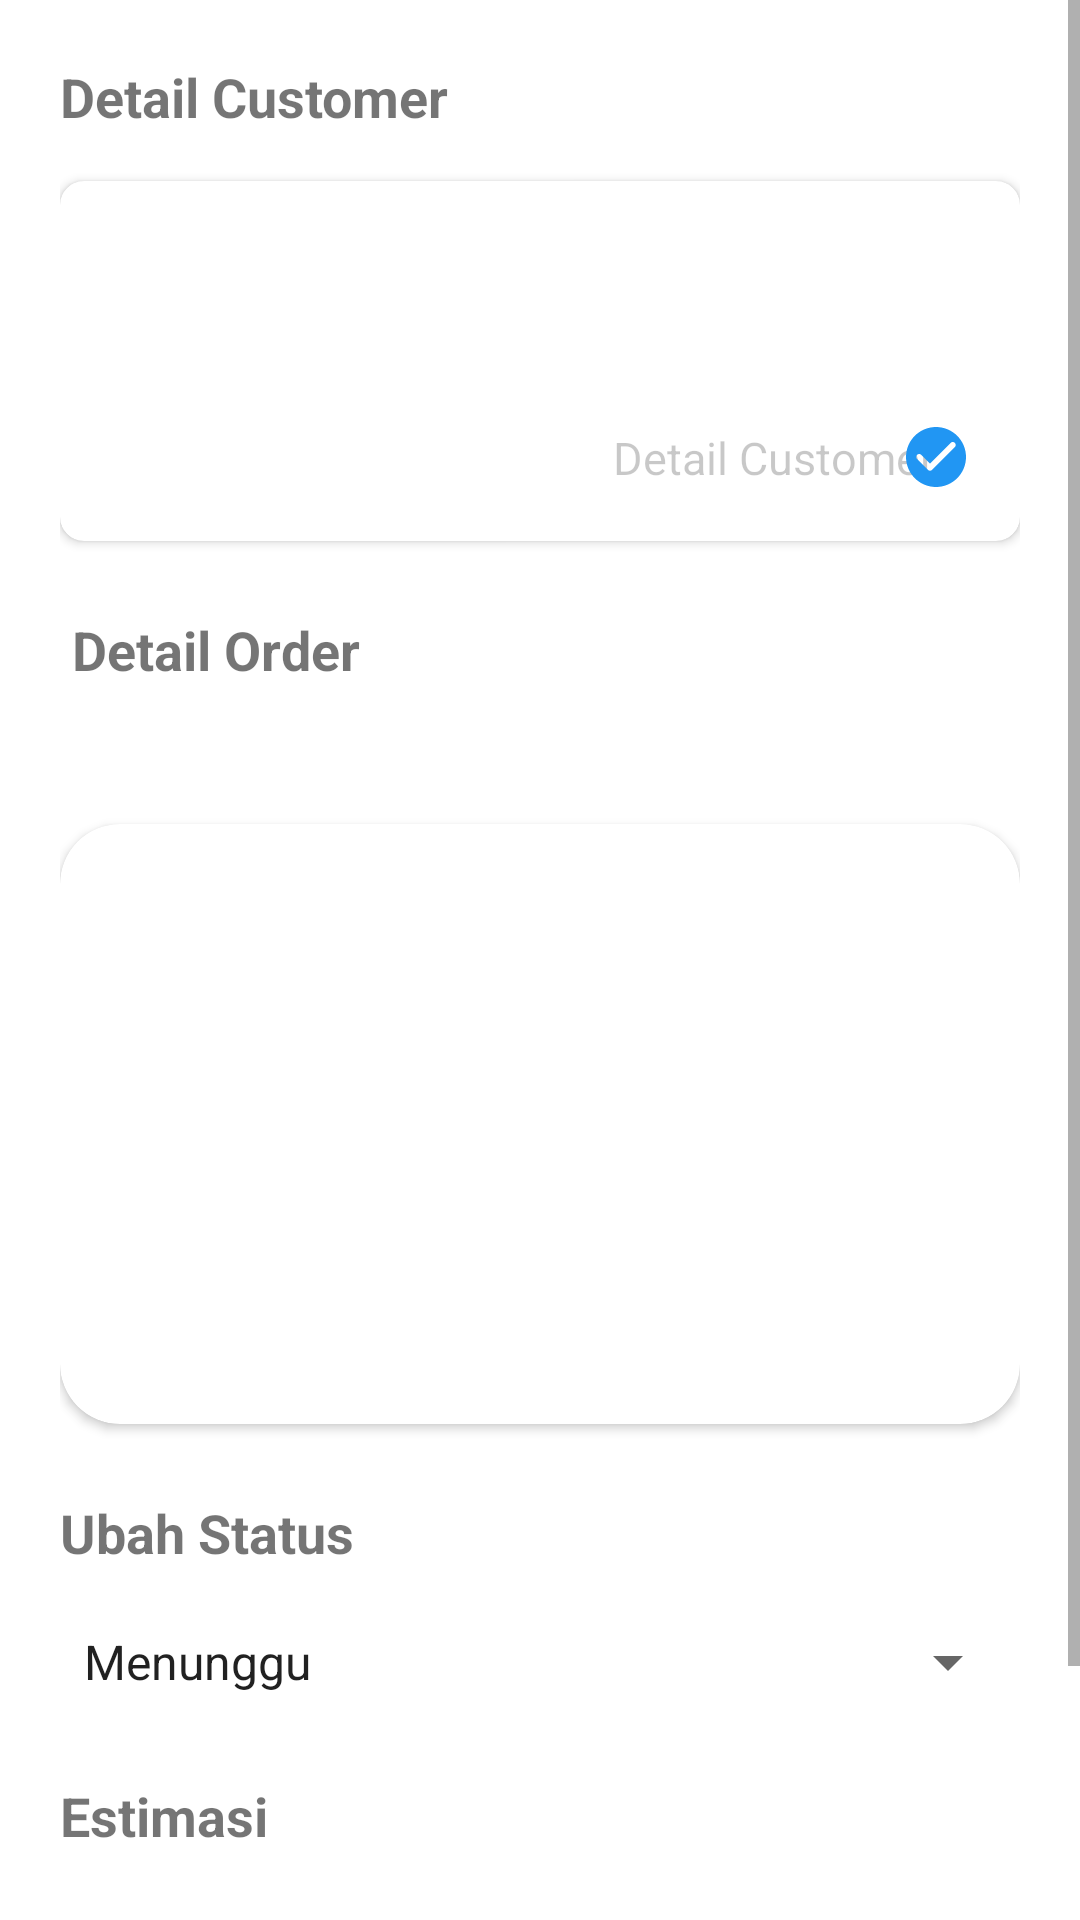

Where to tap for icons on this 1080*1920 app screen, as [x,y]:
check circle: [933,457]
